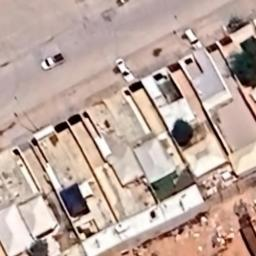SUV: (180, 29, 208, 52)
pickup: (39, 50, 68, 72)
van: (115, 56, 135, 82)
